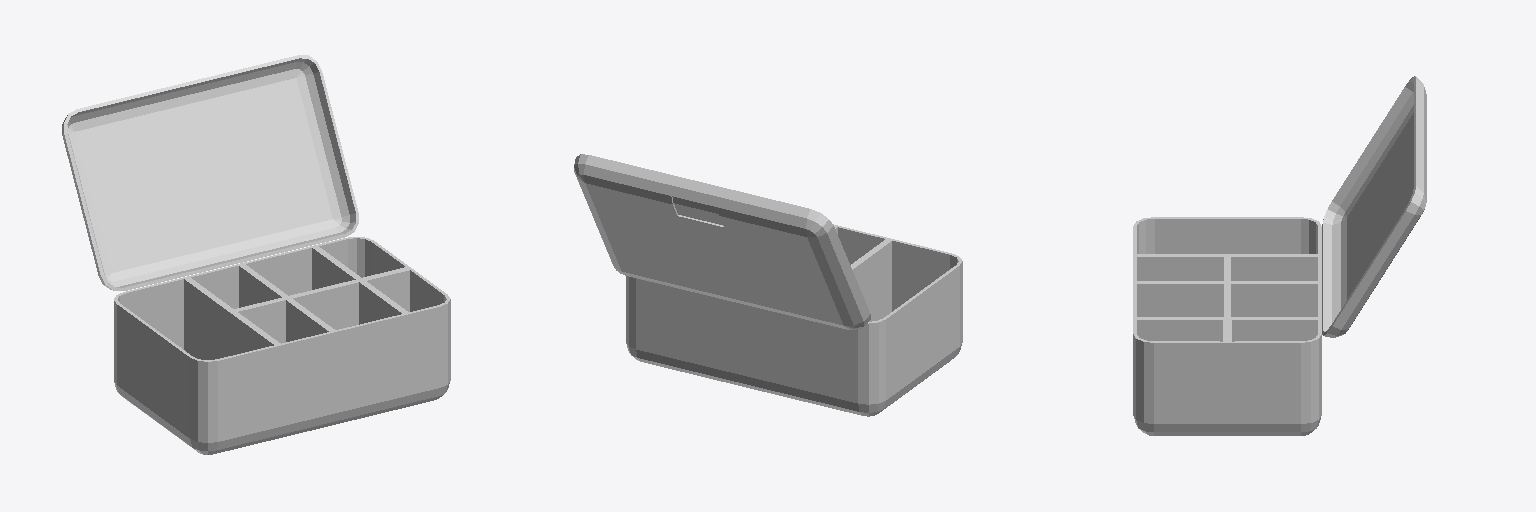
File: botiquin.obj
3 views of the same model, side by side, from view 1: azimuth 30°, elevation 25°; view 2: azimuth 150°, elevation 25°; view 3: azimuth 270°, elevation 25° (orthographic).
Parts seen in each view (by area): view 1: ChamferBox001, tapa; view 2: ChamferBox001, tapa; view 3: ChamferBox001, tapa.
Part boxes in pixels (x1,y1,x2,y2): ChamferBox001: (114,237,450,454); tapa: (62,55,358,290); ChamferBox001: (626,224,962,416); tapa: (574,154,870,329); ChamferBox001: (1133,217,1321,435); tapa: (1322,76,1426,337).
Bounding box in the file's own units: 225 × 207 × 221.